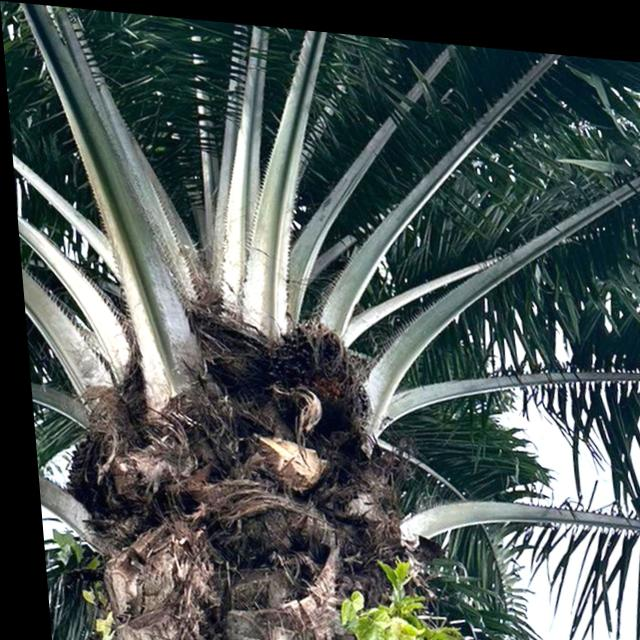almost: (261, 294, 372, 412)
